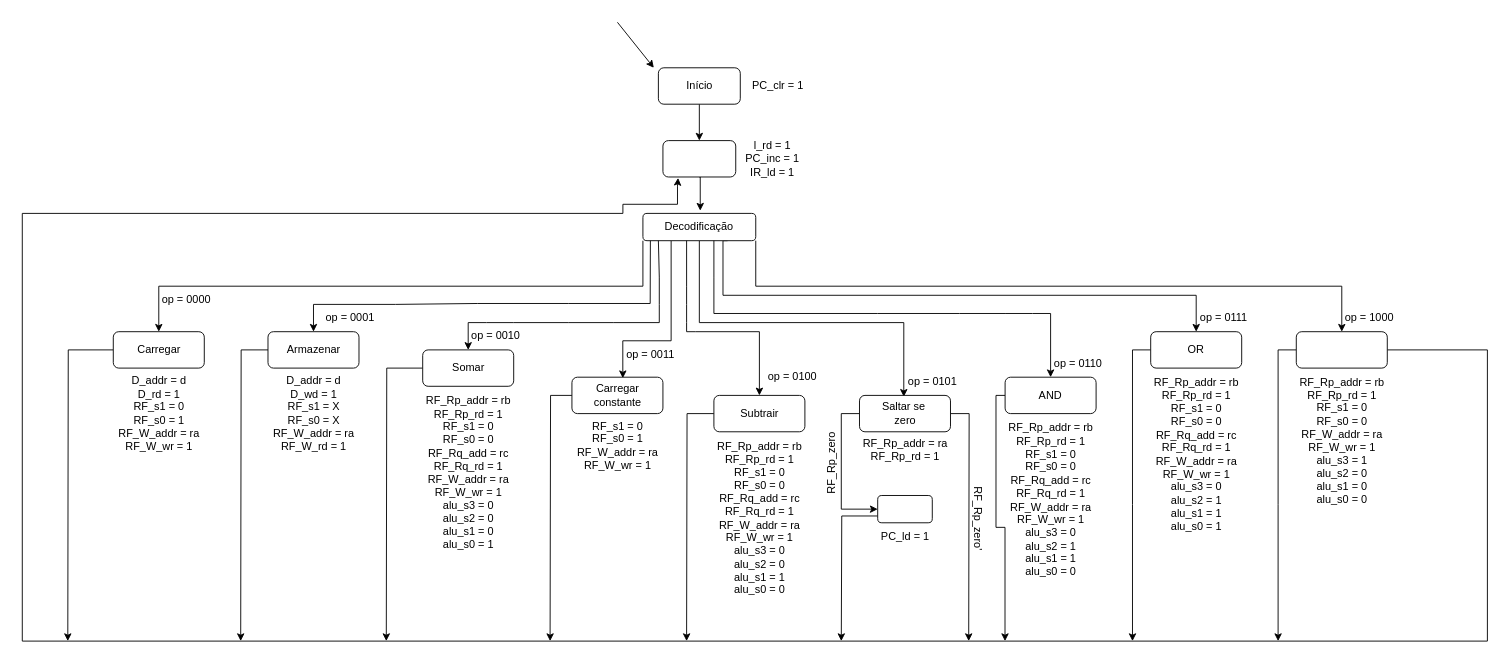
The diagram is 1511 pixels wide and 664 high, and some of its shapes have lost their labels. The centre of each missing label's shape, as x and y in pixels:
"Busca" goes at (699,158).
"NOT" goes at (1341,349).
"Saltar" goes at (904,509).
